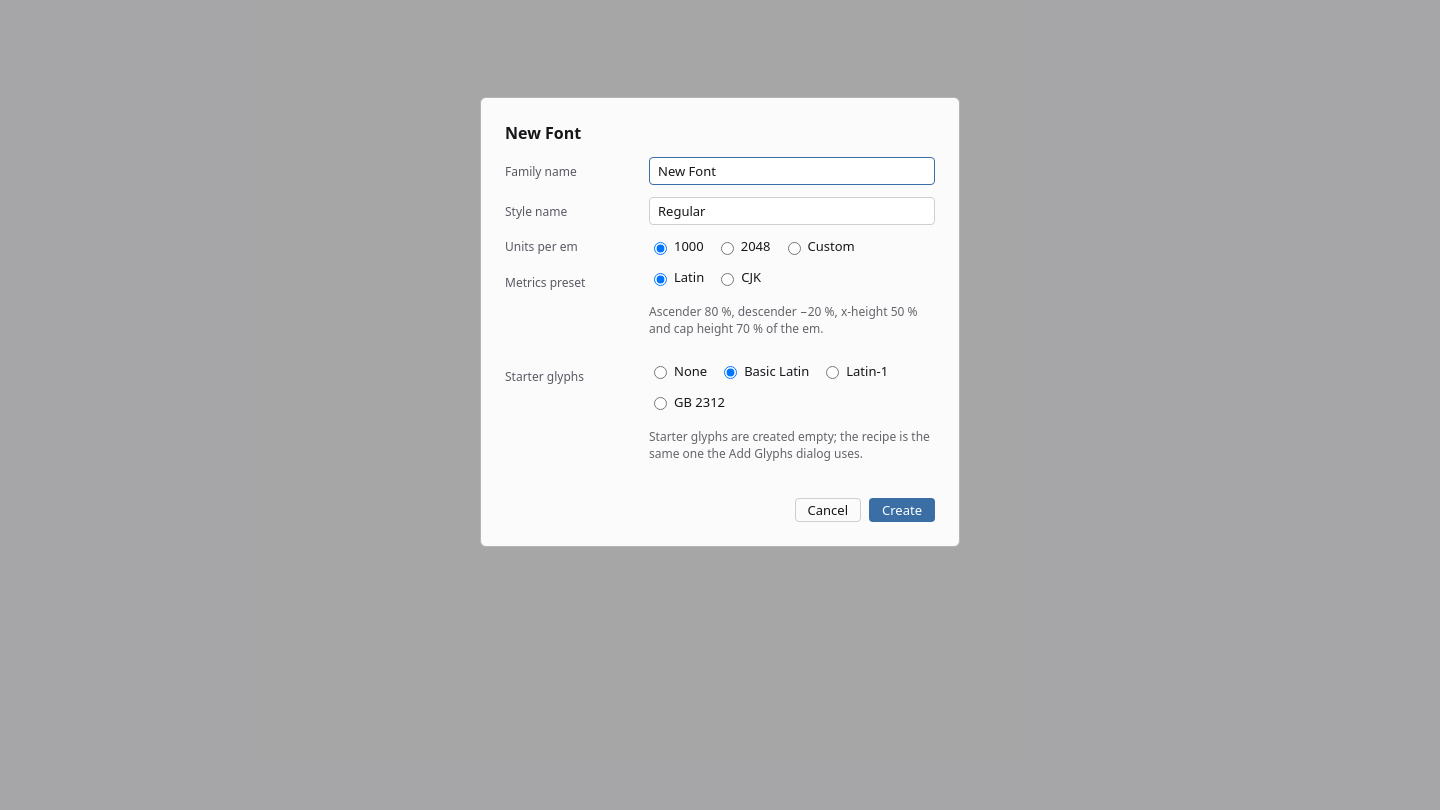
Scenario: NewFontDialog › refuses to create a font without a family name
Clear the field labelled "Family name" at {"x": 792, "y": 171}, box 649,157 -> 935,185
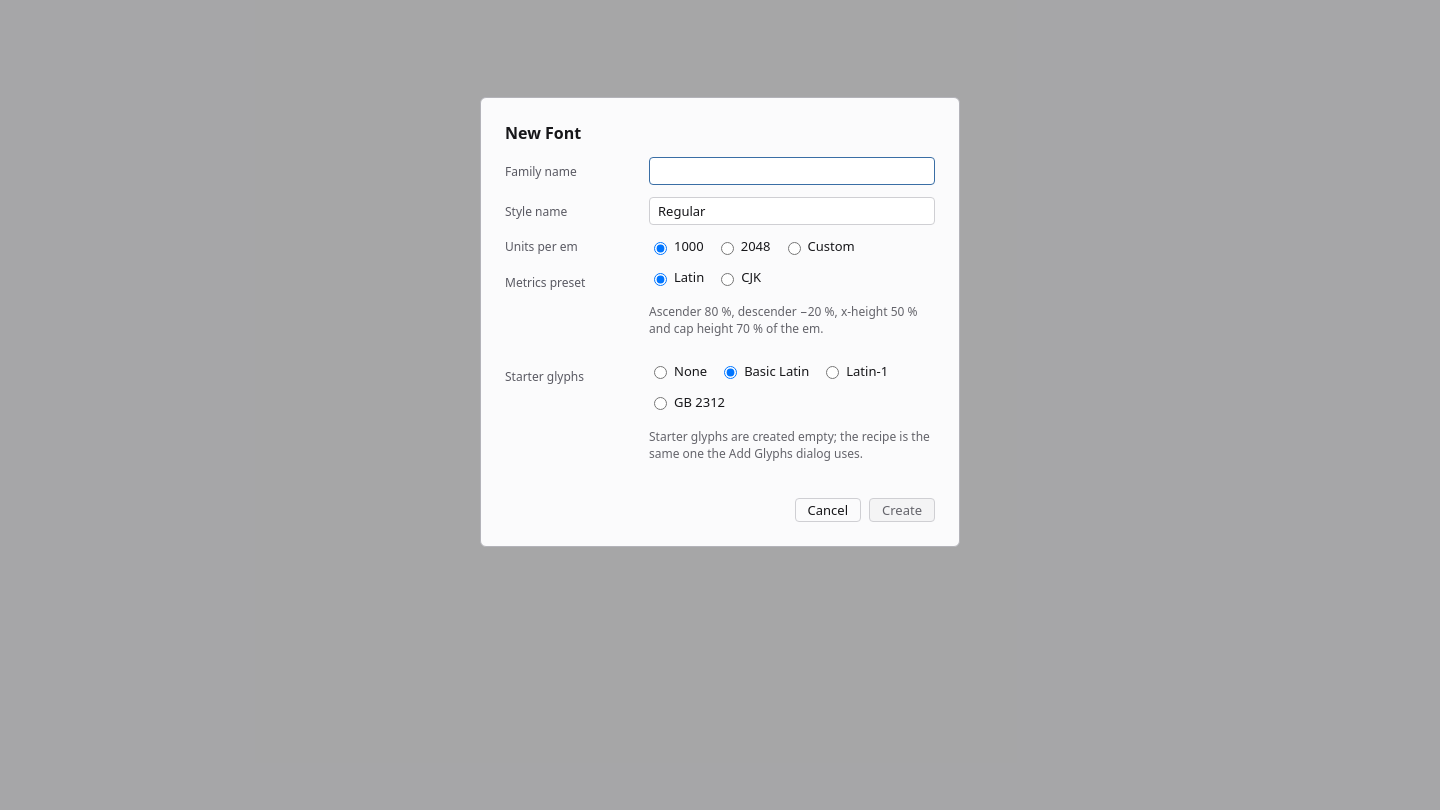
Check: the button "Create" is disabled, box 869,498 -> 935,522
